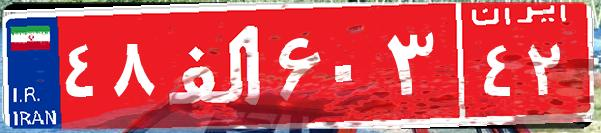0: (330, 28, 385, 110)
2: (525, 38, 570, 115)
3: (385, 28, 445, 110)
4: (57, 26, 110, 107), (475, 38, 525, 113)
6: (273, 28, 330, 110)
8: (110, 28, 158, 105)
الف: (158, 15, 273, 115)
